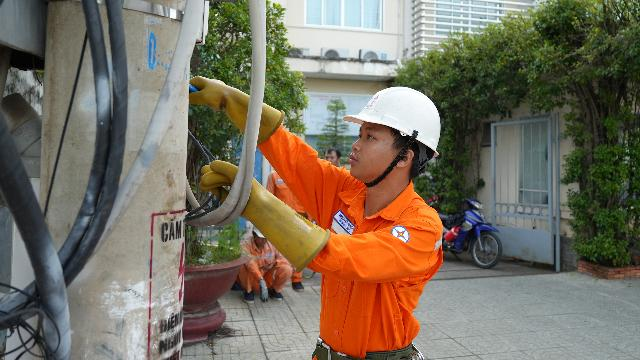gloves: (194, 149, 347, 284), (177, 49, 285, 151)
helmet: (331, 80, 462, 162), (303, 323, 431, 360)
